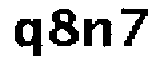7: (117, 3, 149, 51)
8: (46, 6, 79, 51)
n: (84, 19, 114, 53)
q: (13, 15, 43, 59)
